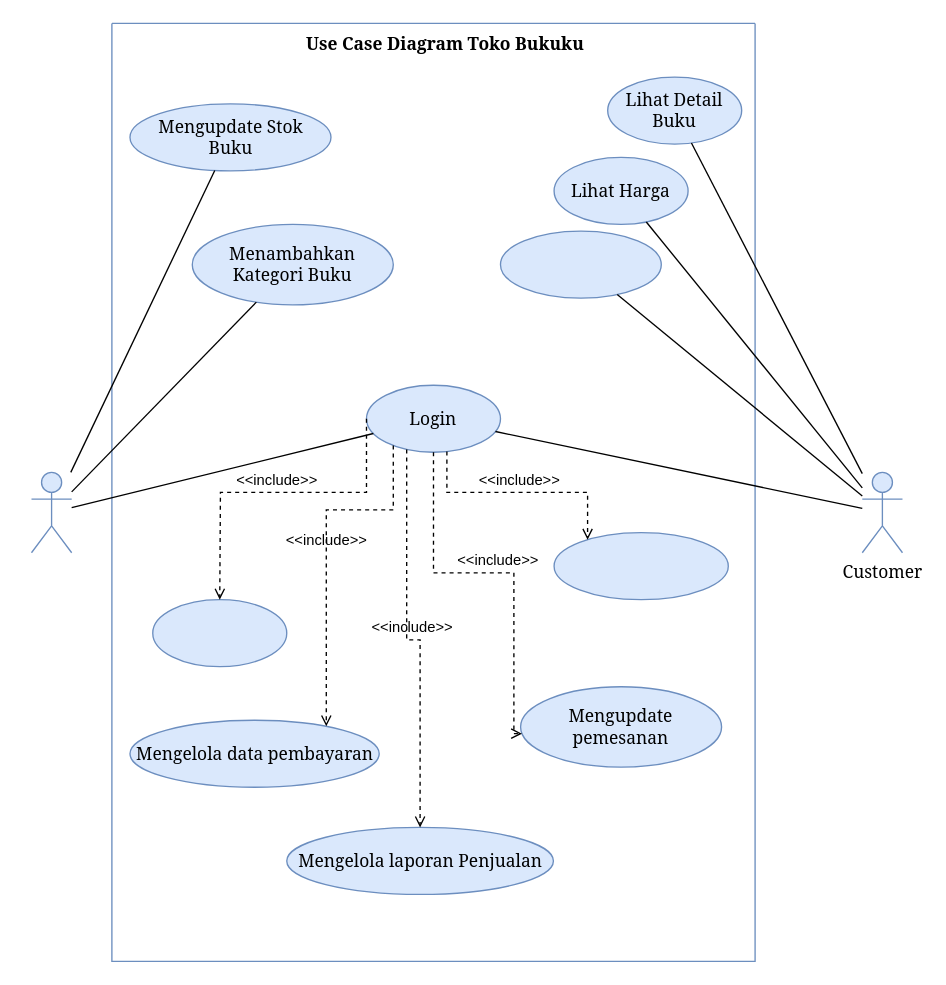
Some shapes in this 946 by 985 pixel diagram are drawn without their labels. Each missing label, with the centre of its shape:
Admin: point 51,512
Konfirmasi Pembayaran: point 580,264
Membeli Buku: point 219,632
Mengelola Buku: point 640,565
